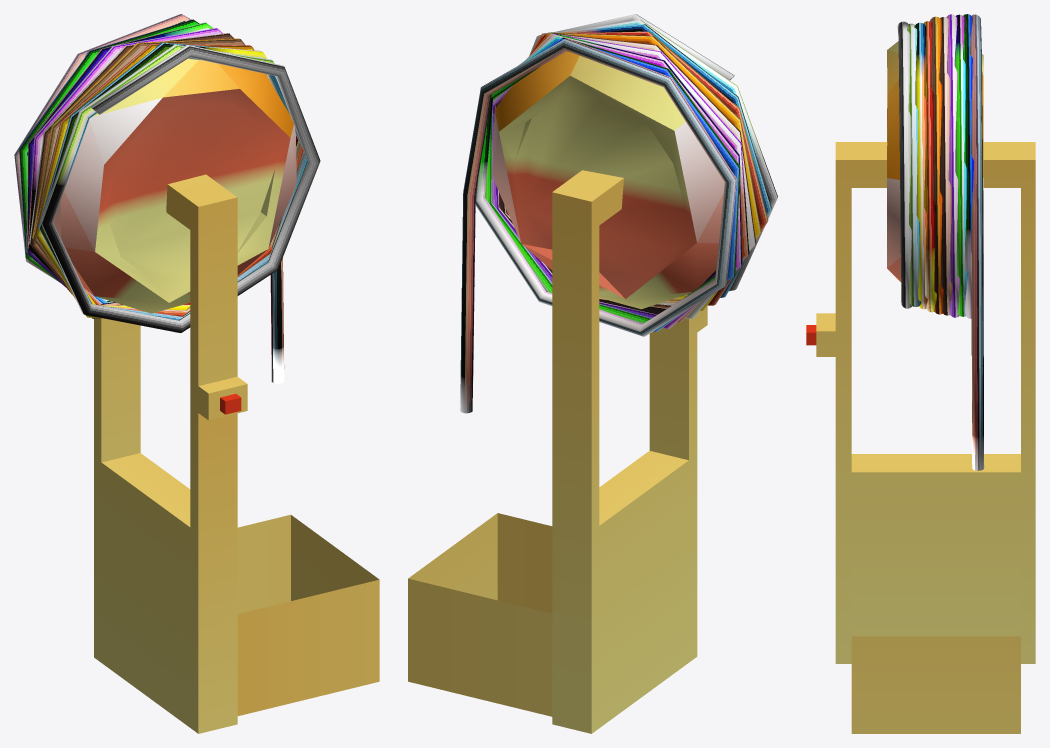
File: SpinningMachine.fbx
The picture shows the model from 3 angles, left to right: view 1: azimuth 30°, elevation 25°; view 2: azimuth 150°, elevation 25°; view 3: azimuth 270°, elevation 25°; orthographic projection. The views are drawn at different scales.
Parts seen in each view (by area): view 1: Cube, TurningBase, Rope; view 2: Cube, TurningBase, Rope; view 3: Cube, Rope, TurningBase.
Part boxes in pixels (x1,y1,x2,y2): Cube: (94, 174, 379, 733); TurningBase: (53, 58, 296, 313); Rope: (14, 14, 320, 383); Cube: (408, 170, 707, 733); TurningBase: (492, 51, 724, 309); Rope: (460, 14, 777, 413); Cube: (816, 142, 1035, 733); Rope: (897, 14, 984, 470); TurningBase: (887, 41, 983, 282).
Size of the model in its own units: 68.92 by 141 by 46.6.
1 material, 1 textured.
